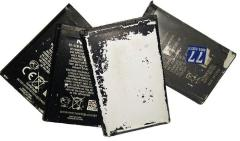electronic: (0, 1, 240, 141)
